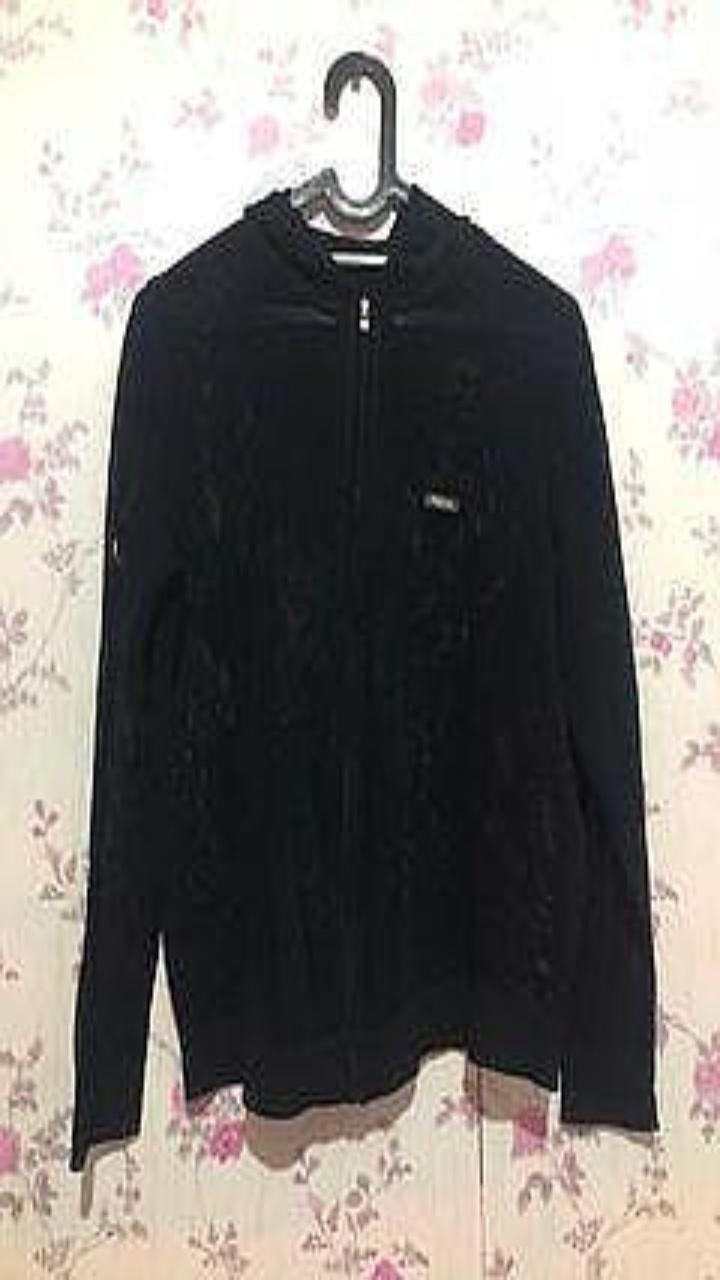Sports_Jacket: (70, 183, 658, 1170)
